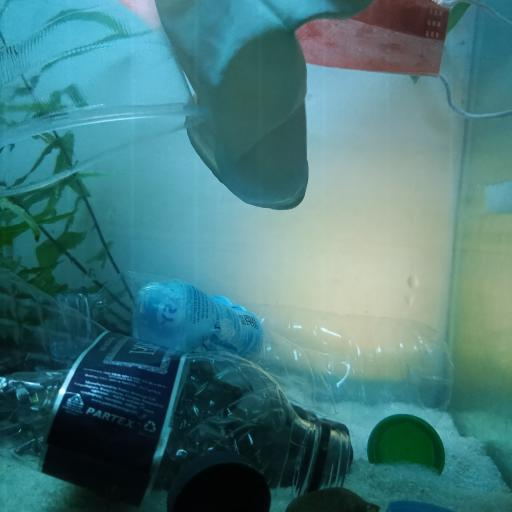bottle_cap: (166, 451, 271, 512), (369, 413, 446, 474)
glove: (158, 2, 362, 209)
mask: (125, 0, 512, 120)
plastic_bottle: (2, 263, 353, 502), (55, 272, 458, 426)
plastic_cup: (0, 0, 206, 193)
